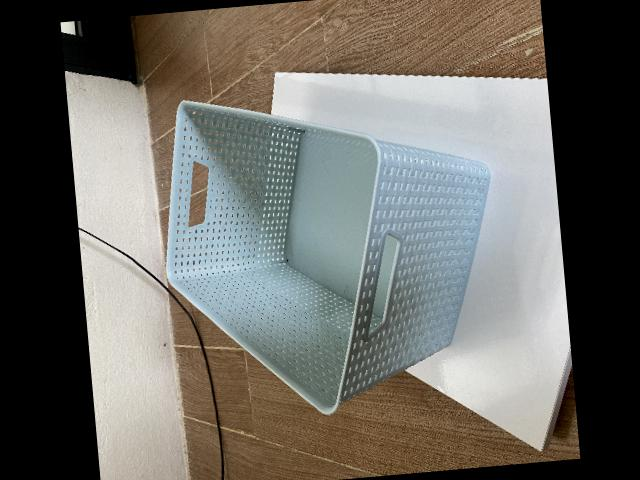cart: (166, 97, 491, 413)
